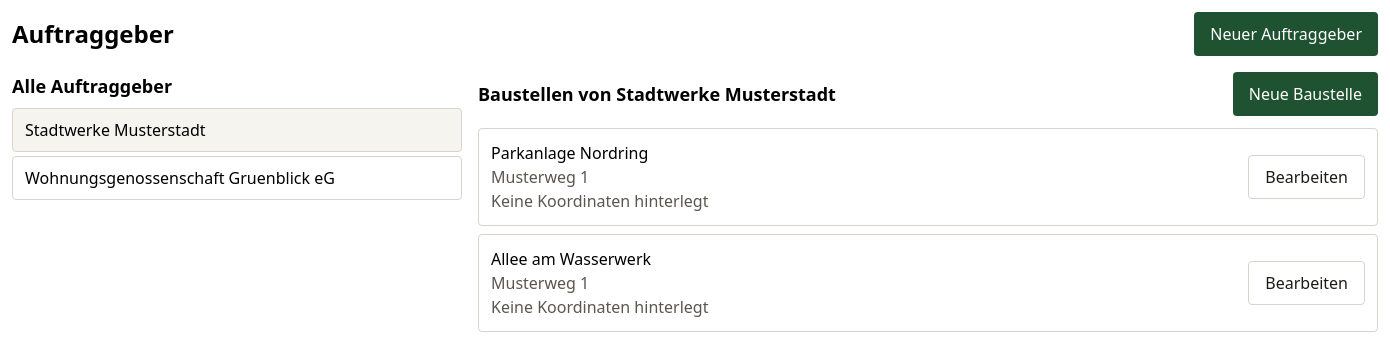
Test: CustomerPanel › zeigt nach der Auswahl genau die Baustellen dieses Auftraggebers
Click the button "Stadtwerke Musterstadt": click(115, 130) [12, 108, 462, 152]
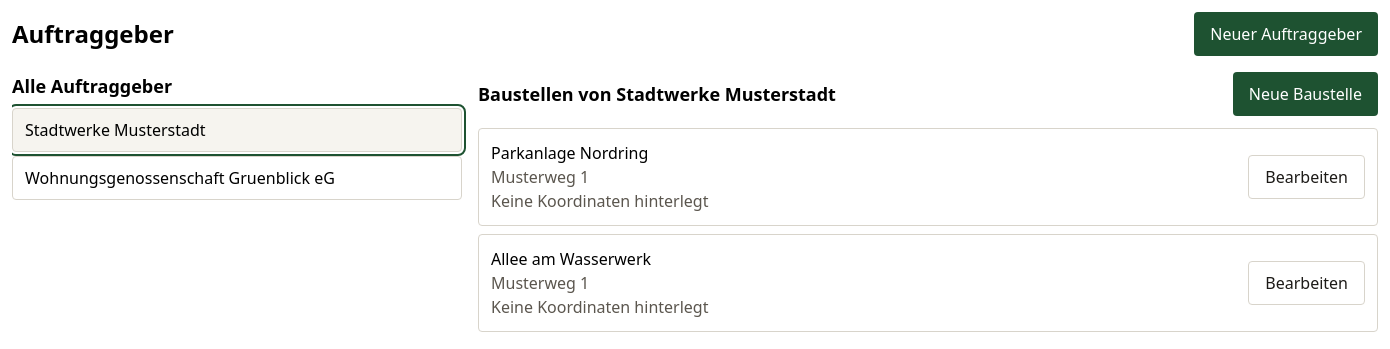
Expected: the elements with test id "baustellenname" read "Parkanlage Nordring", "Allee am Wasserwerk", in this order, [491, 142, 648, 164]; [491, 248, 651, 270]
Click the button "Wohnungsgenossenschaft Gruenblick eG": click(237, 178) [12, 156, 462, 200]
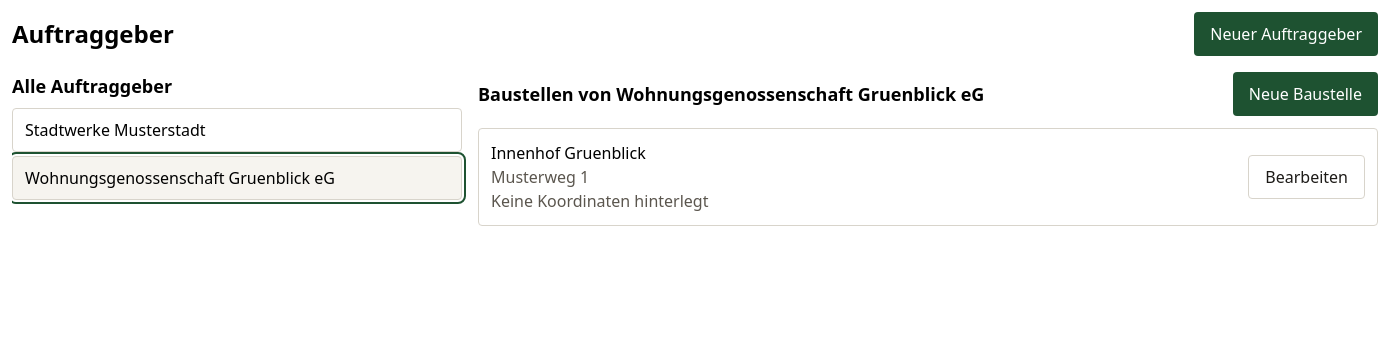
Expected: the elements with test id "baustellenname" read "Innenhof Gruenblick", in this order, [491, 142, 646, 164]
